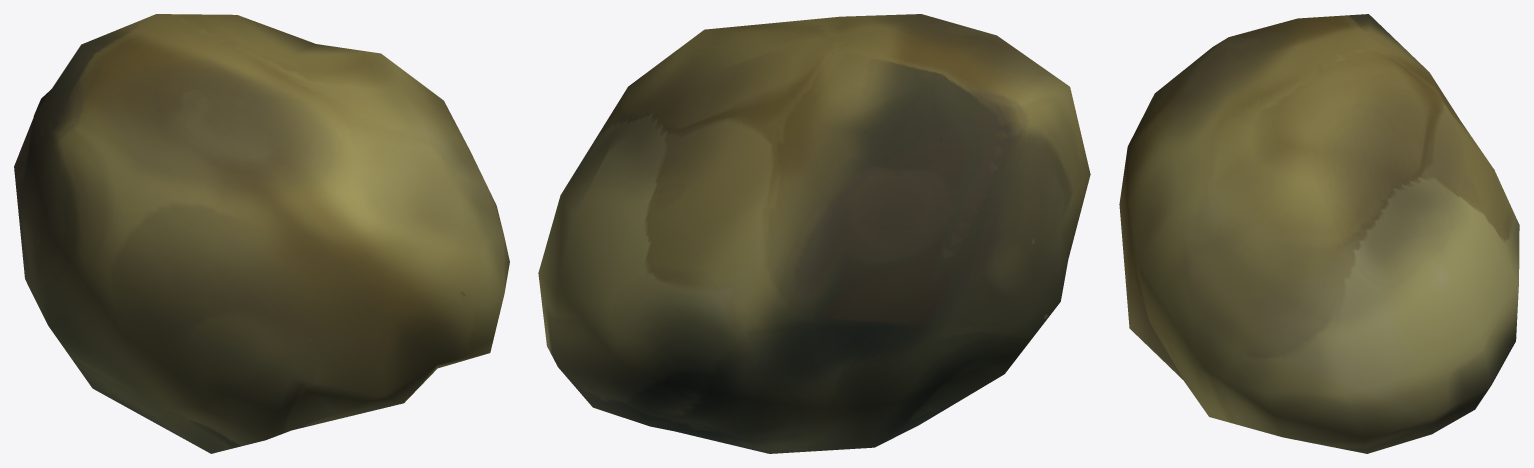
The model's file is rock 2.fbx.
The picture shows the model from 3 angles, left to right: view 1: azimuth 30°, elevation 25°; view 2: azimuth 150°, elevation 25°; view 3: azimuth 270°, elevation 25°; orthographic projection. The views are drawn at different scales.
Visible parts, largest first — view 1: Cube; view 2: Cube; view 3: Cube.
Part boxes in pixels (x1=…): Cube: x1=14, y1=14, x2=509, y2=453; Cube: x1=538, y1=14, x2=1090, y2=453; Cube: x1=1119, y1=14, x2=1519, y2=453.
Size of the model in its own units: 404 by 342 by 355.
